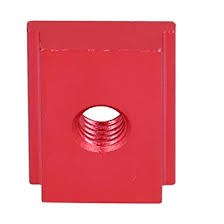Thread: (66, 98, 141, 159)
